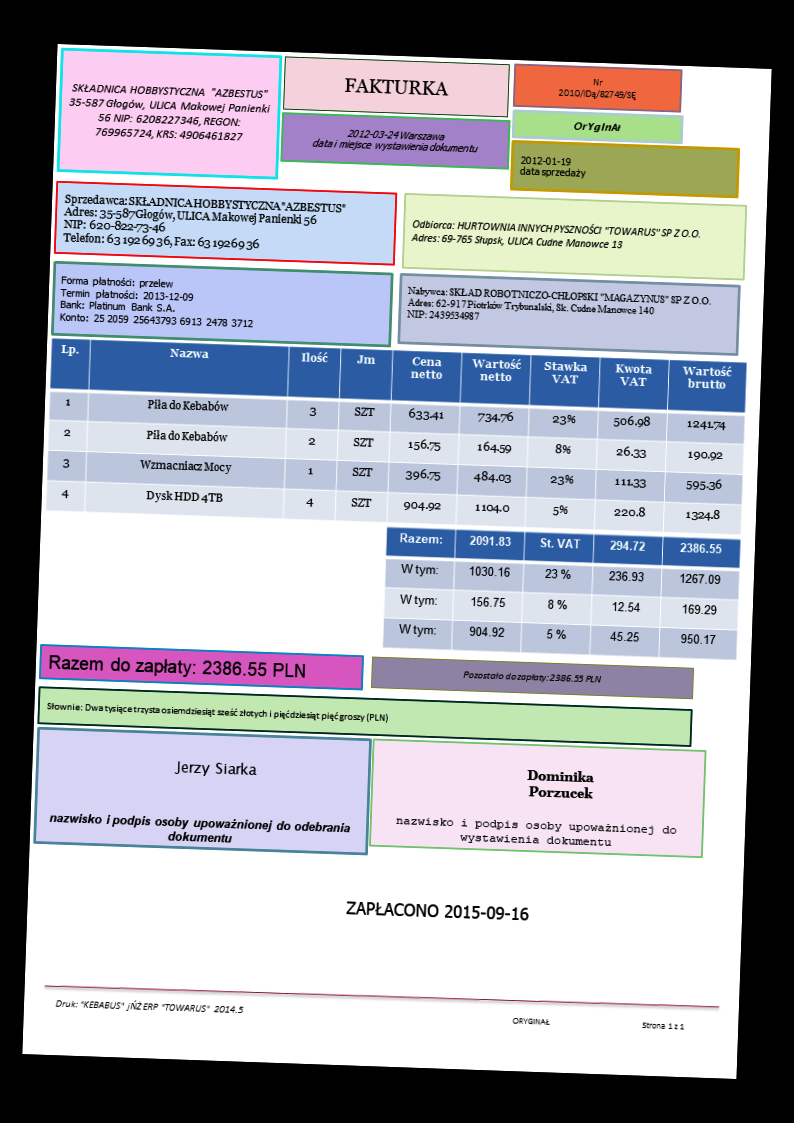Table: (44, 336, 749, 536), (380, 524, 742, 662)
TextBox: (59, 188, 350, 258), (404, 281, 713, 332), (64, 79, 274, 146), (57, 271, 258, 333), (47, 810, 354, 849), (392, 811, 681, 852), (409, 216, 703, 256), (44, 698, 392, 727), (46, 651, 307, 681), (309, 124, 481, 157), (343, 897, 534, 923), (54, 995, 247, 1018), (509, 1013, 688, 1034), (523, 765, 599, 804), (460, 667, 604, 687), (341, 74, 449, 99), (554, 73, 639, 103), (170, 756, 260, 781), (518, 151, 588, 181), (570, 116, 623, 136)
